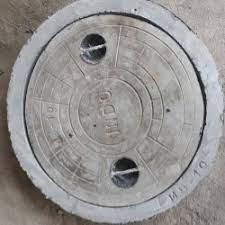fake manhole: (3, 0, 225, 221)
